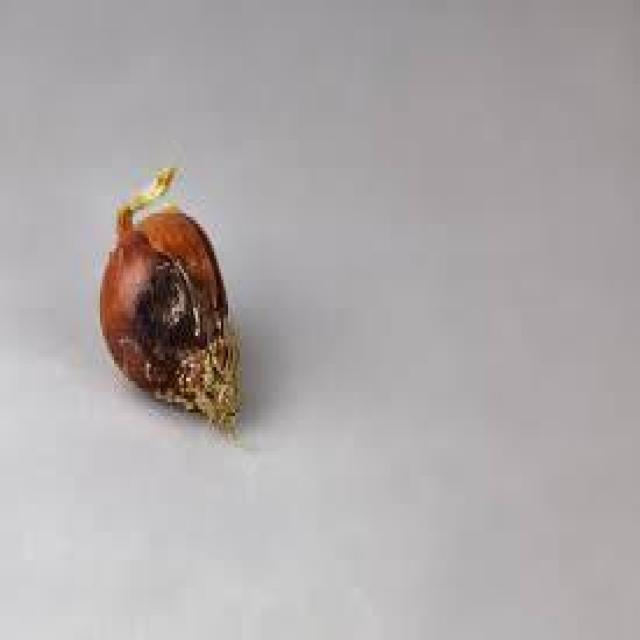Onion: (86, 161, 244, 455)
